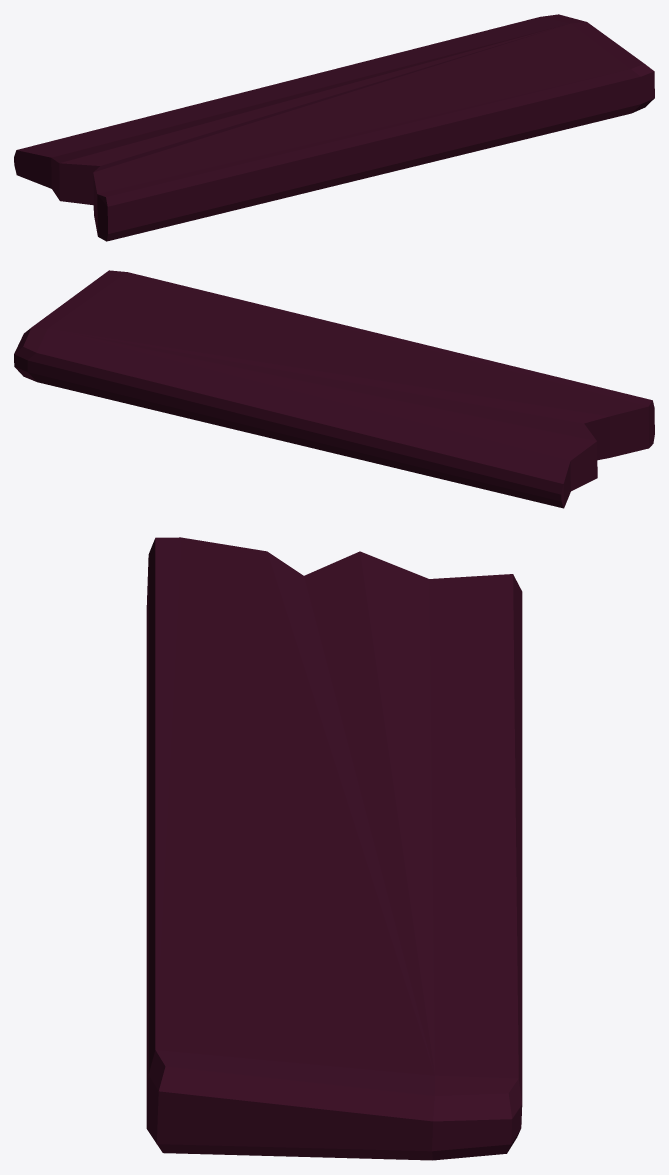
File: prop_wood_broken2.FBX
3 renders of one model, top to bottom at view 1: azimuth 30°, elevation 25°; view 2: azimuth 150°, elevation 25°; view 3: azimuth 270°, elevation 25°, orthographic. The views are drawn at different scales.
Parts seen in each view (by area): view 1: WoodBroke1; view 2: WoodBroke1; view 3: WoodBroke1.
Boxes of the visible parts, x1=… form: WoodBroke1: x1=14, y1=14, x2=654, y2=241; WoodBroke1: x1=14, y1=270, x2=654, y2=508; WoodBroke1: x1=146, y1=537, x2=522, y2=1160.
Bounding box in the file's own units: 1.75 × 0.1351 × 0.5058.
